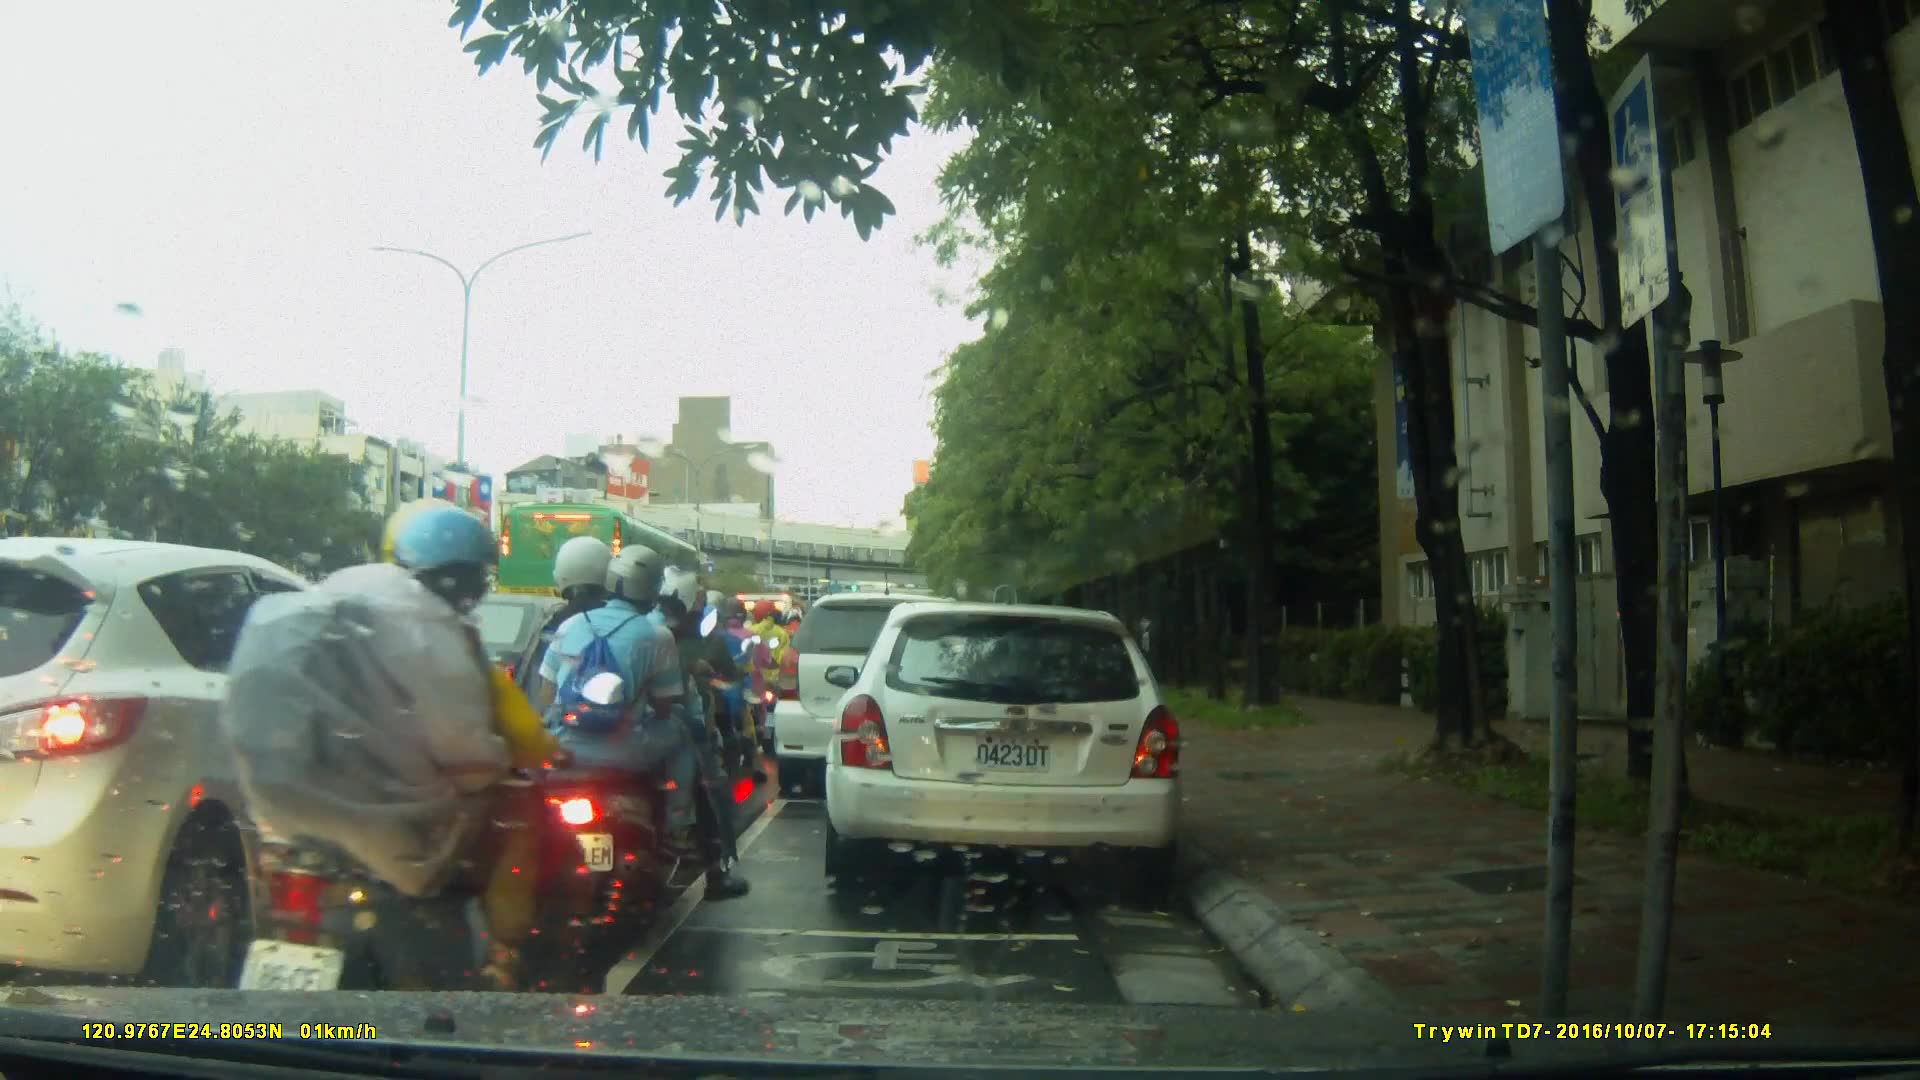rider: (220, 497, 606, 1050), (526, 541, 742, 937), (602, 562, 719, 833), (688, 585, 767, 787), (707, 598, 779, 764), (749, 598, 797, 737)
vehicle: (2, 536, 458, 987), (831, 592, 1196, 897), (312, 590, 629, 776), (773, 590, 999, 803), (497, 502, 713, 636)
